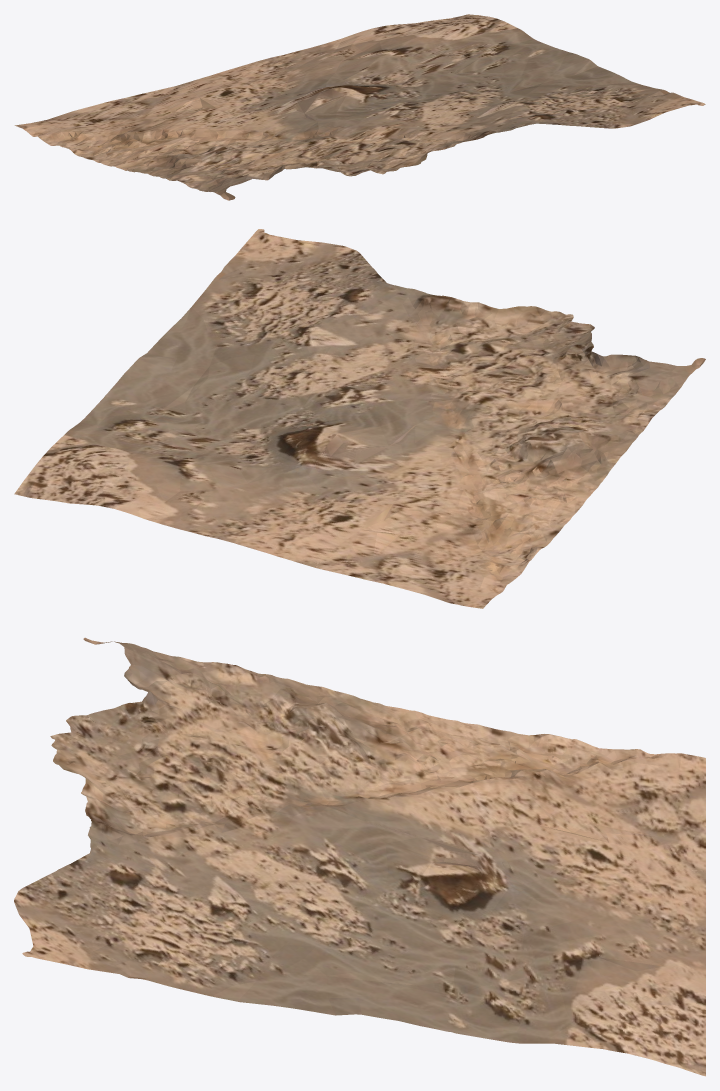
3 renders of one model, top to bottom at view 1: azimuth 30°, elevation 25°; view 2: azimuth 150°, elevation 25°; view 3: azimuth 270°, elevation 25°, orthographic. The views are drawn at different scales.
Bounding box in the file's own units: 2.09 × 0.3784 × 1.92.
2 materials, 2 textured.
